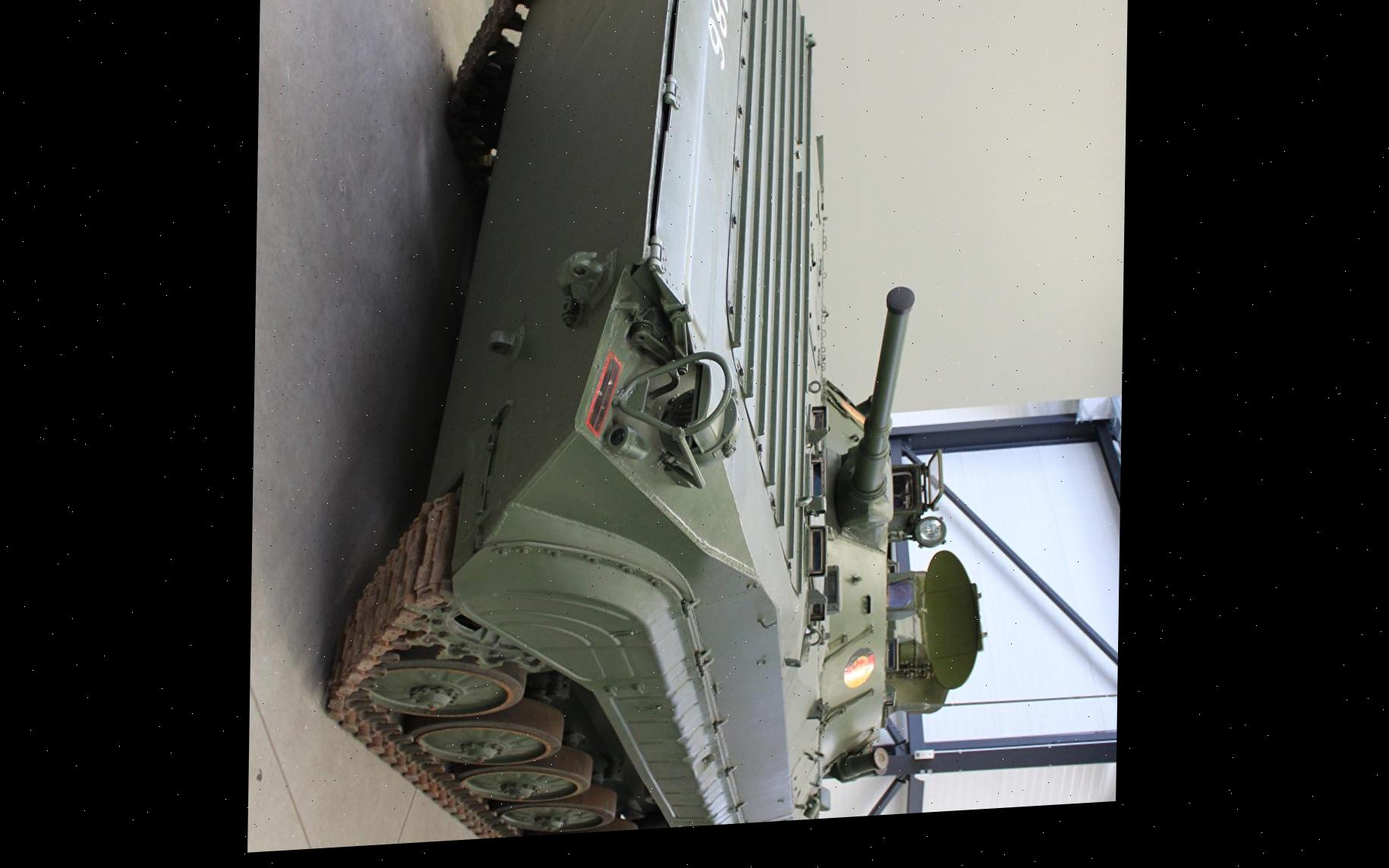tank: (320, 0, 999, 848)
